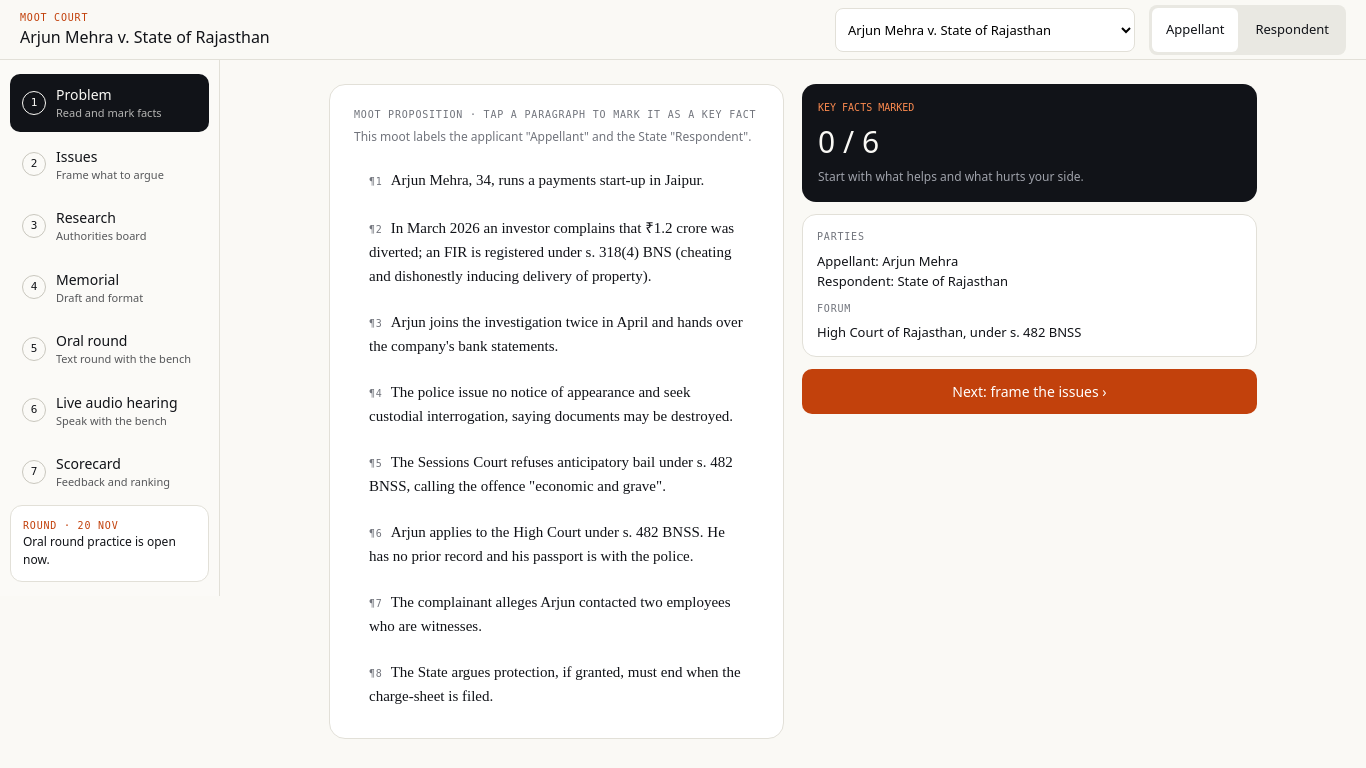
Test case: Oral round (text) › a weak answer on a hot bench draws a follow-up before the next question; a calm bench does not
Click the button "5 Oral round Text round with the bench" at (110, 349), box [10,320,209,378]
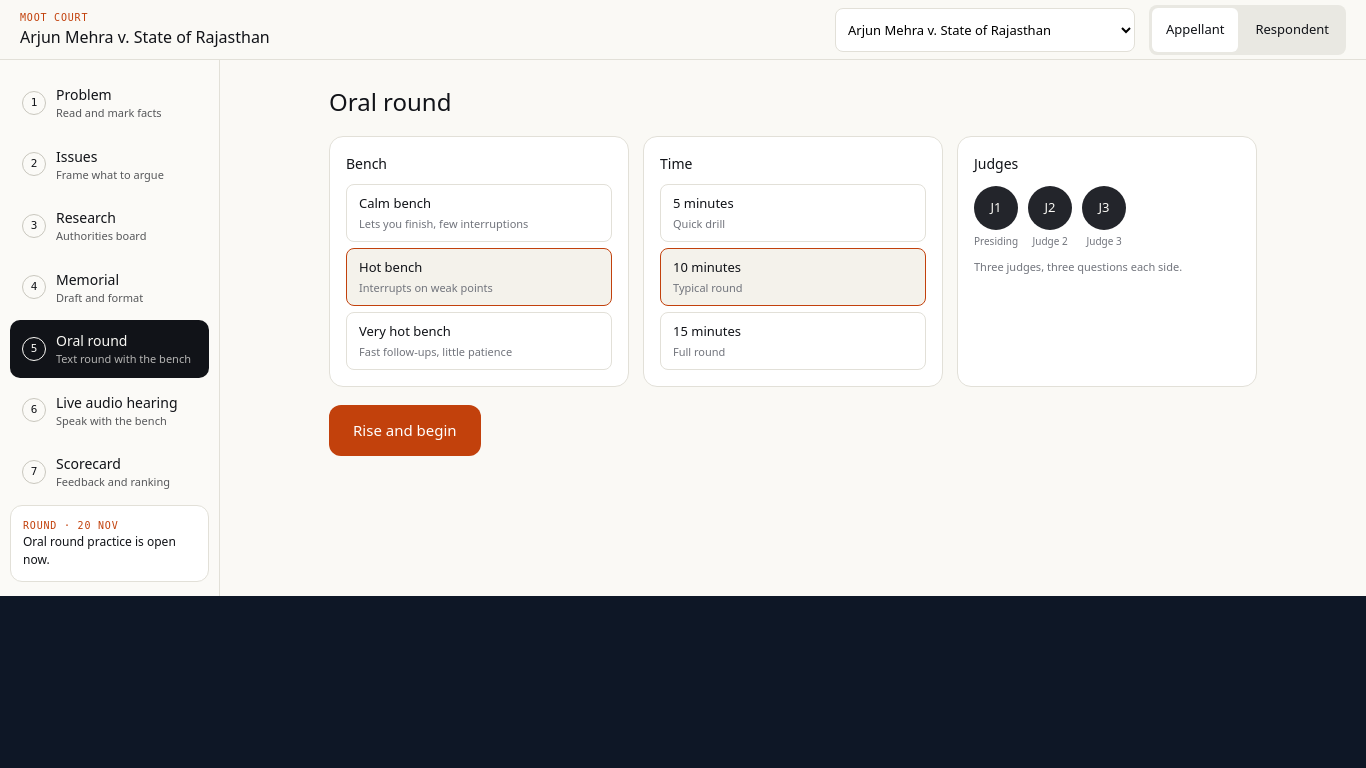
Click the button "Rise and begin" at (405, 430), box [329,405,481,456]
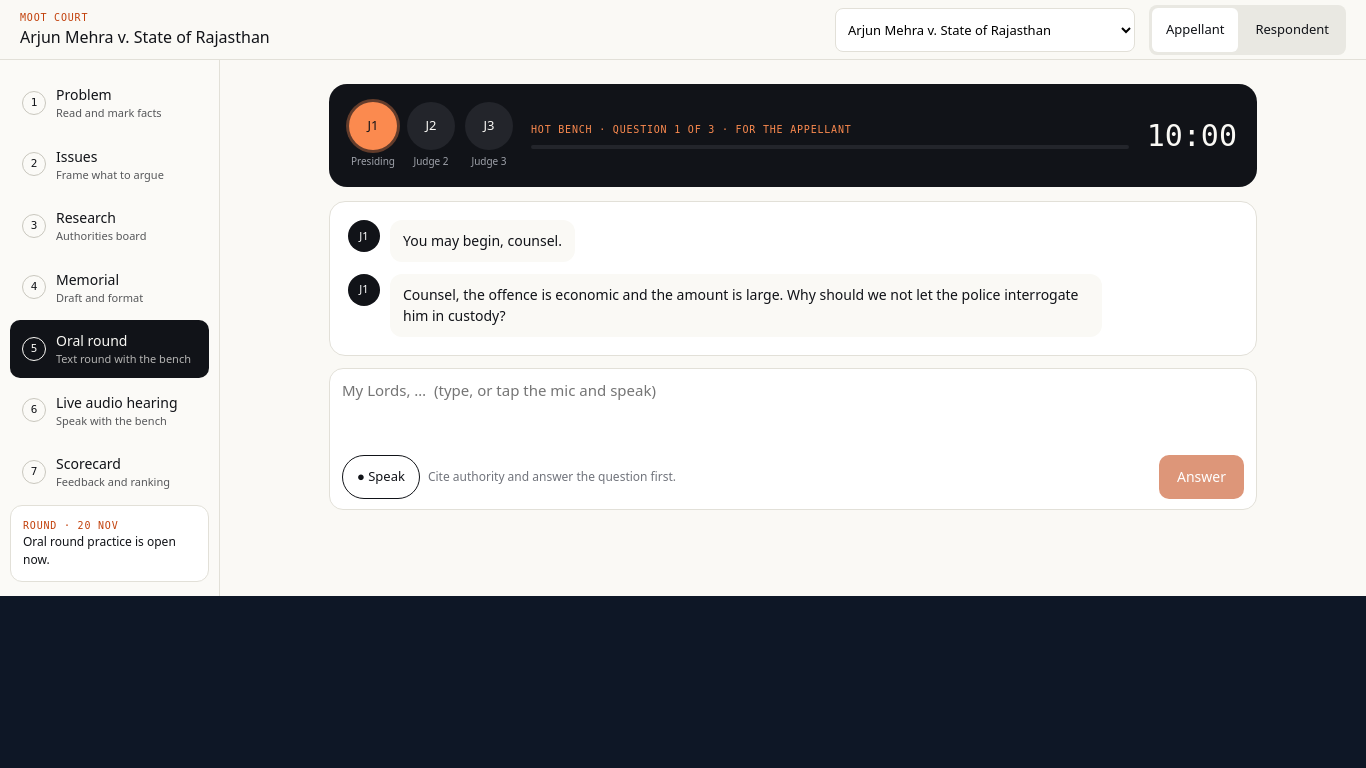
Type "My Lords, no." into the text box named "Your answer" at (793, 413), box [342,379,1244,447]
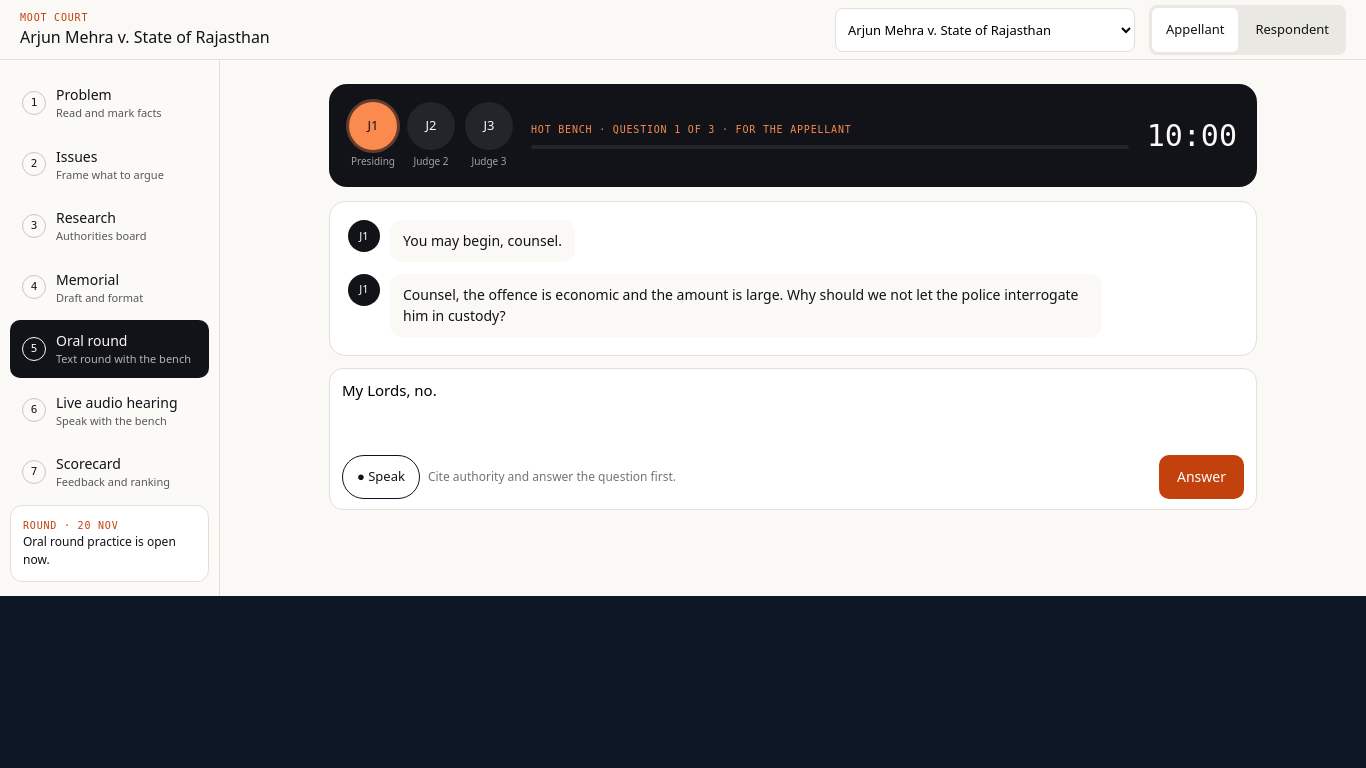
Click the button "Answer" at (1202, 477), box [1159,455,1244,499]
Wait 1200 ms
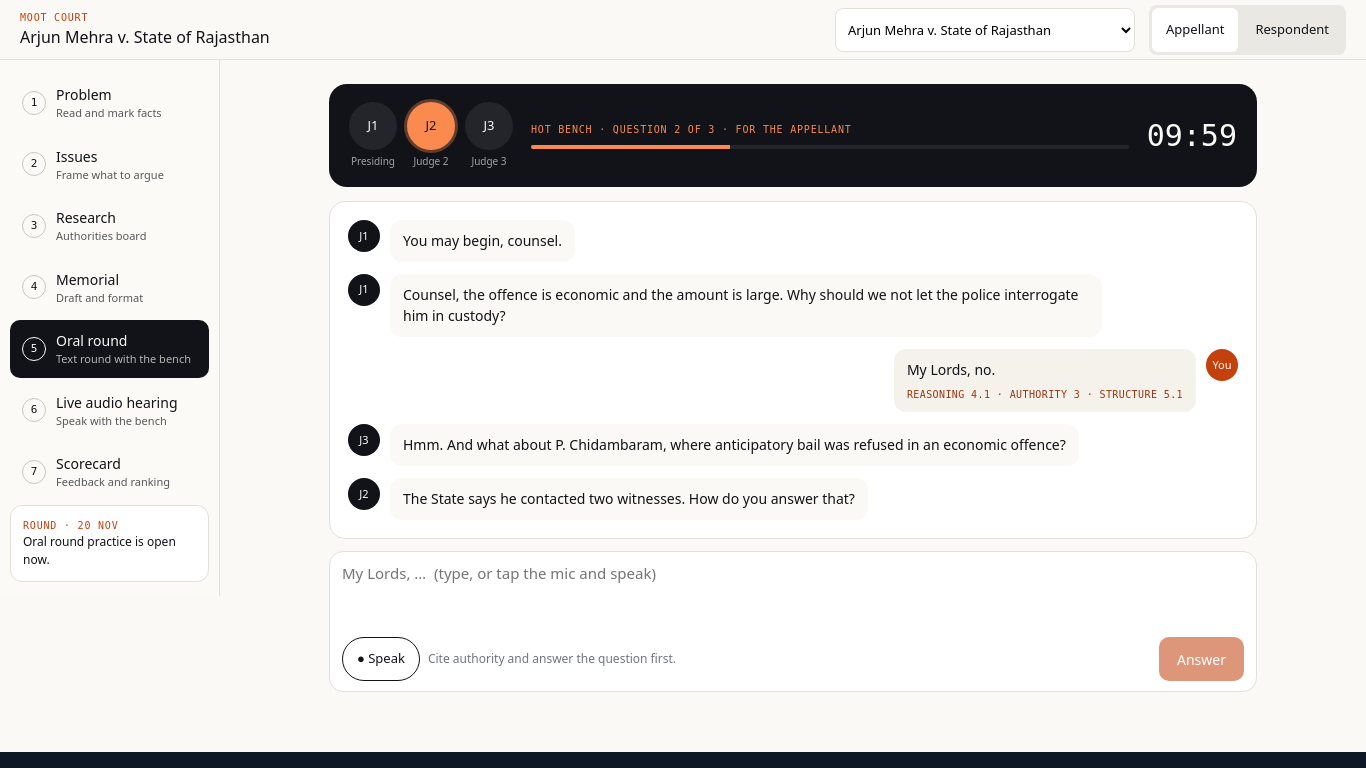
Check: the text "And what about P. Chidambaram, where anticipatory bail was refused in an economic offence" is shown, box [403,435,1066,454]
Check: the text "REASONING 4.1 · AUTHORITY 3 · STRUCTURE 5.1" is shown, box [907,387,1183,402]
